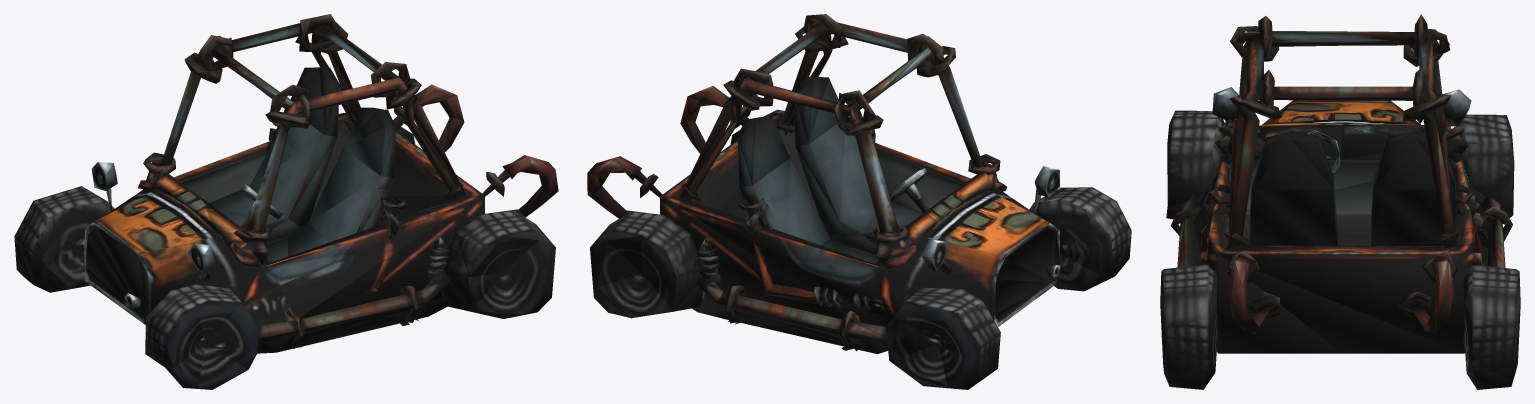
The model's file is roof_rollcage.glb.
3 renders of one model, left to right at view 1: azimuth 30°, elevation 25°; view 2: azimuth 150°, elevation 25°; view 3: azimuth 270°, elevation 25°, orthographic. The views are drawn at different scales.
Visible parts, largest first — view 1: tripo_node_7d2d6a9e-7862-4e2a-8a45-3ab610da4921; view 2: tripo_node_7d2d6a9e-7862-4e2a-8a45-3ab610da4921; view 3: tripo_node_7d2d6a9e-7862-4e2a-8a45-3ab610da4921.
Boxes of the visible parts, x1=… form: tripo_node_7d2d6a9e-7862-4e2a-8a45-3ab610da4921: x1=14, y1=14, x2=558, y2=389; tripo_node_7d2d6a9e-7862-4e2a-8a45-3ab610da4921: x1=587, y1=14, x2=1131, y2=389; tripo_node_7d2d6a9e-7862-4e2a-8a45-3ab610da4921: x1=1160, y1=14, x2=1520, y2=389.
Size of the model in its own units: 0.9972 by 0.553 by 0.6846.
1 material, 1 textured.
